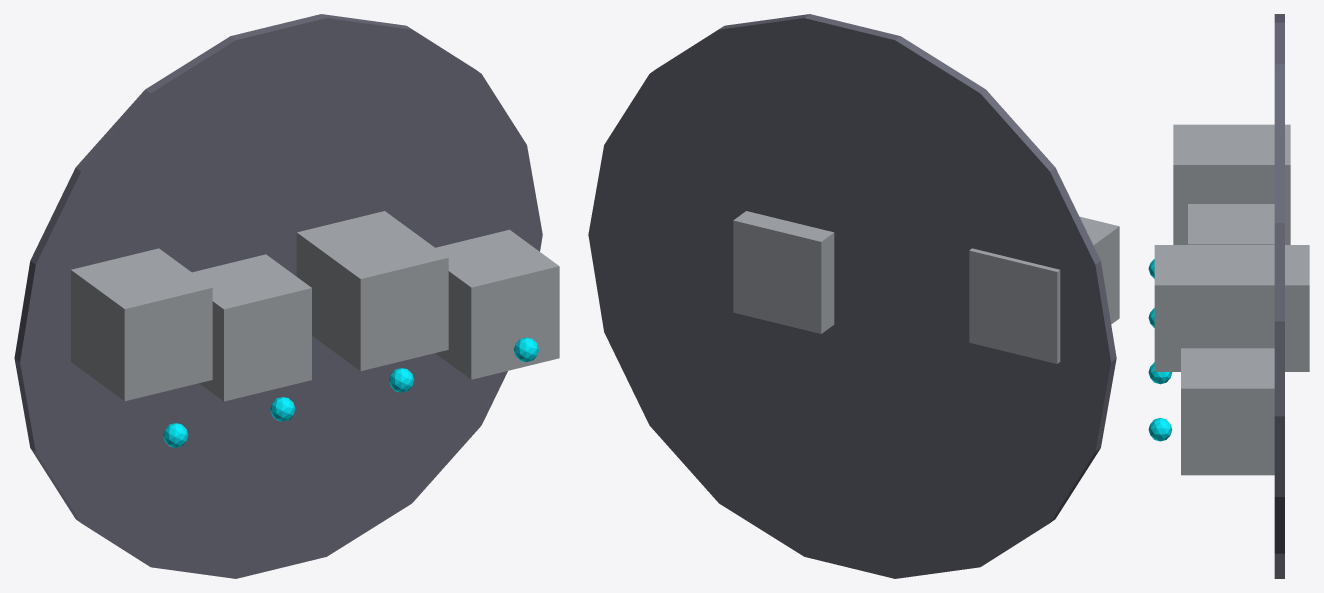
File: 02_display_prop_cluster.glb
The picture shows the model from 3 angles, left to right: view 1: azimuth 30°, elevation 25°; view 2: azimuth 150°, elevation 25°; view 3: azimuth 270°, elevation 25°; orthographic projection. The views are drawn at different scales.
Visible parts, largest first — view 1: scatter_base, tech_crate_2, tech_crate_0, tech_crate_3, tech_crate_1; view 2: scatter_base, tech_crate_0, tech_crate_2; view 3: tech_crate_2, tech_crate_3, tech_crate_0, scatter_base, tech_crate_1, status_light_3, status_light_2.
Part boxes in pixels (box(x1,y1,x2,y2)): scatter_base: box(14, 14, 542, 578); tech_crate_2: box(296, 211, 448, 371); tech_crate_0: box(71, 248, 212, 401); tech_crate_3: box(435, 229, 559, 379); tech_crate_1: box(192, 254, 311, 401); scatter_base: box(588, 14, 1116, 578); tech_crate_0: box(969, 216, 1119, 363); tech_crate_2: box(733, 211, 834, 333); tech_crate_2: box(1154, 245, 1309, 371); tech_crate_3: box(1181, 348, 1274, 475); tech_crate_0: box(1173, 124, 1290, 244); scatter_base: box(1274, 14, 1284, 578); tech_crate_1: box(1188, 204, 1274, 244); status_light_3: box(1148, 418, 1172, 441); status_light_2: box(1148, 362, 1172, 384).
Size of the model in its own units: 1.9 by 1.87 by 0.5394.
